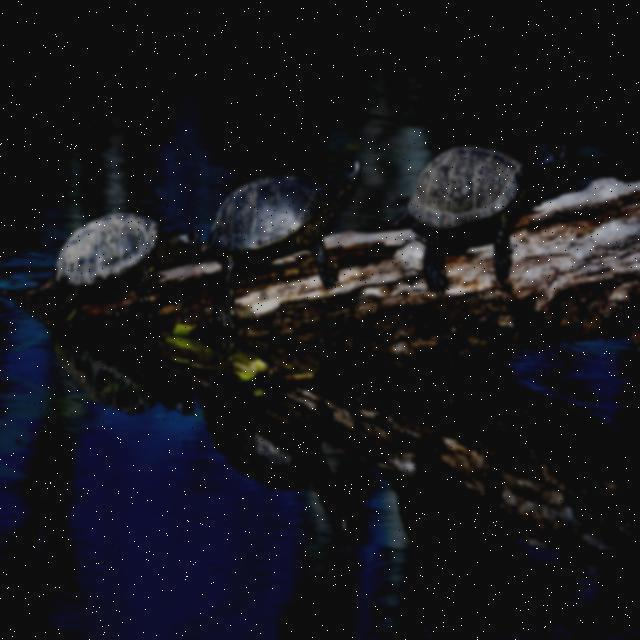tortoise: (404, 142, 530, 262), (204, 178, 314, 276)
